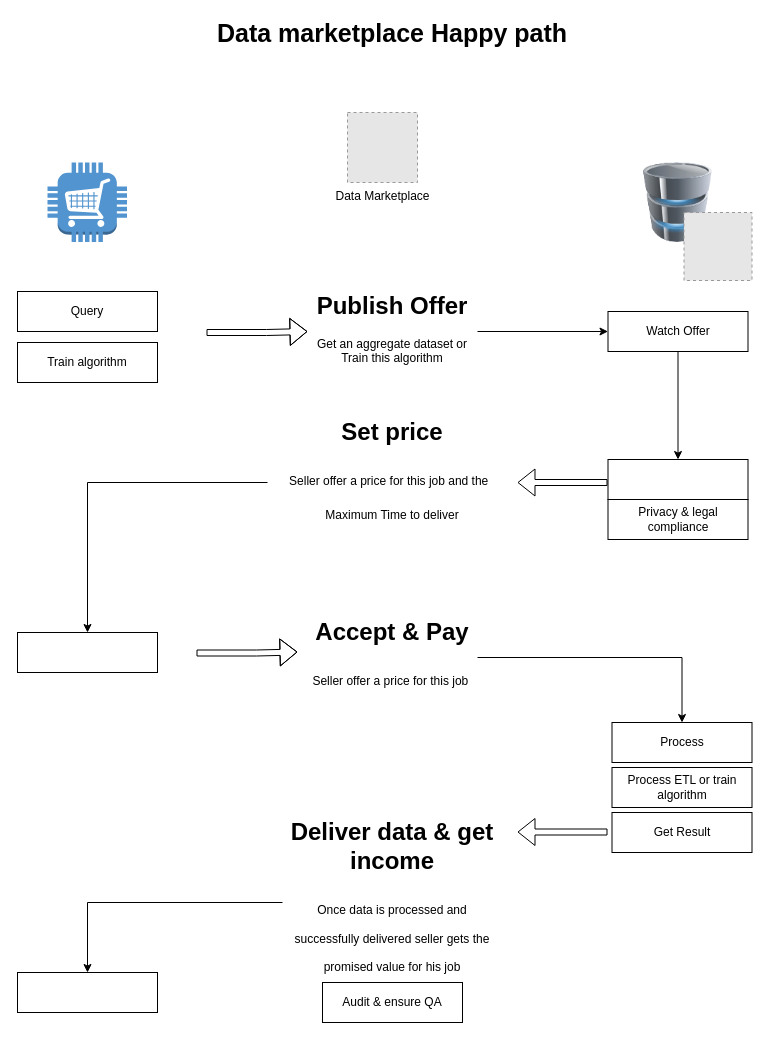
This 770x1040 diagram has some shape labels left out. Grey dashed boxes stand in for pictures. Each missing label, with the box of its shape:
Buyer: (46, 162, 127, 242)
Cost Analytics: (607, 458, 748, 500)
Cost/profit Analysis: (16, 632, 158, 672)
Score transaction: (16, 972, 158, 1012)
Seller: (638, 162, 718, 242)
